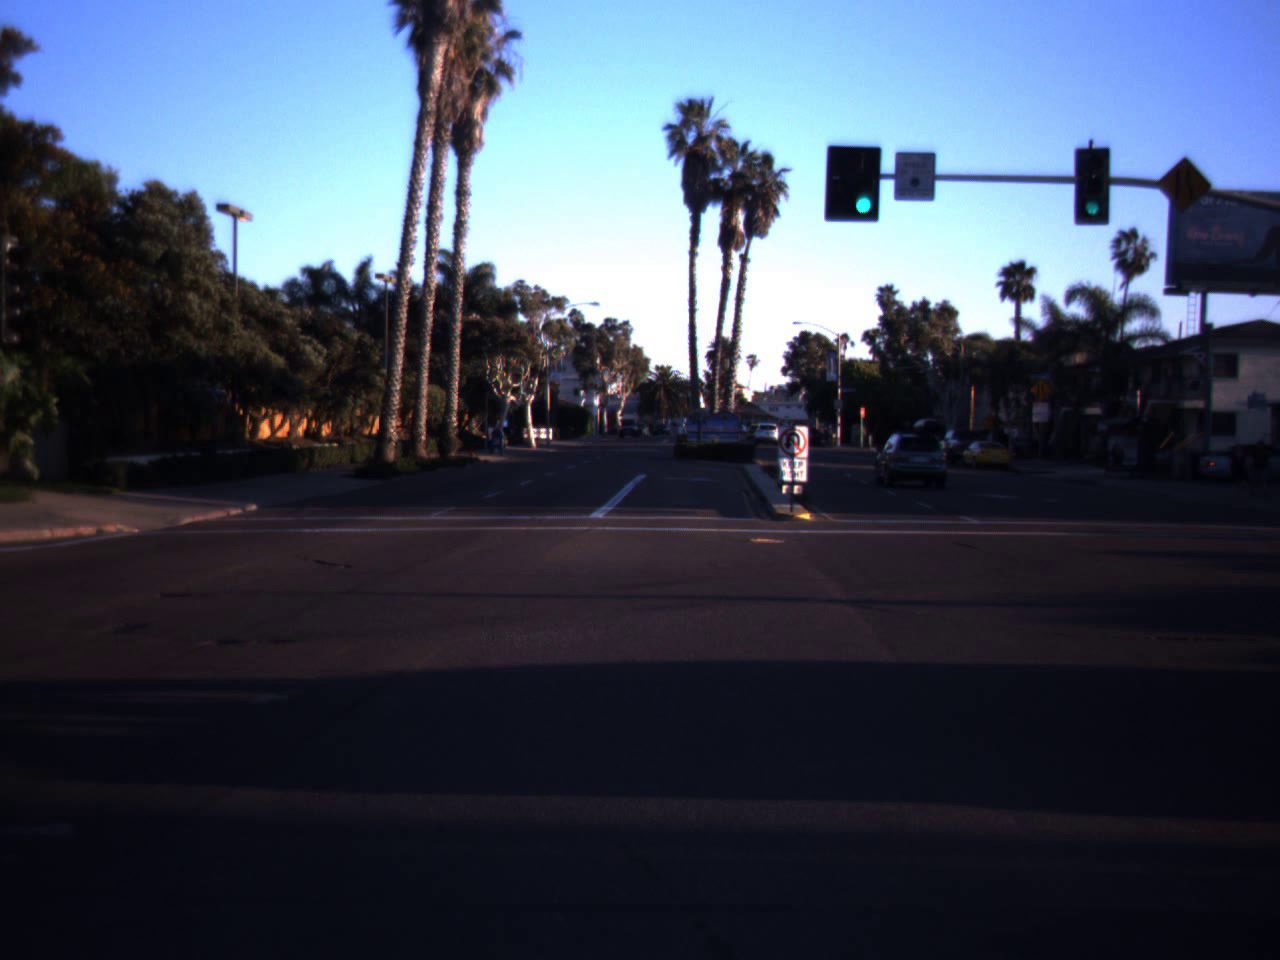go: (842, 149, 884, 219), (1076, 164, 1109, 219)
